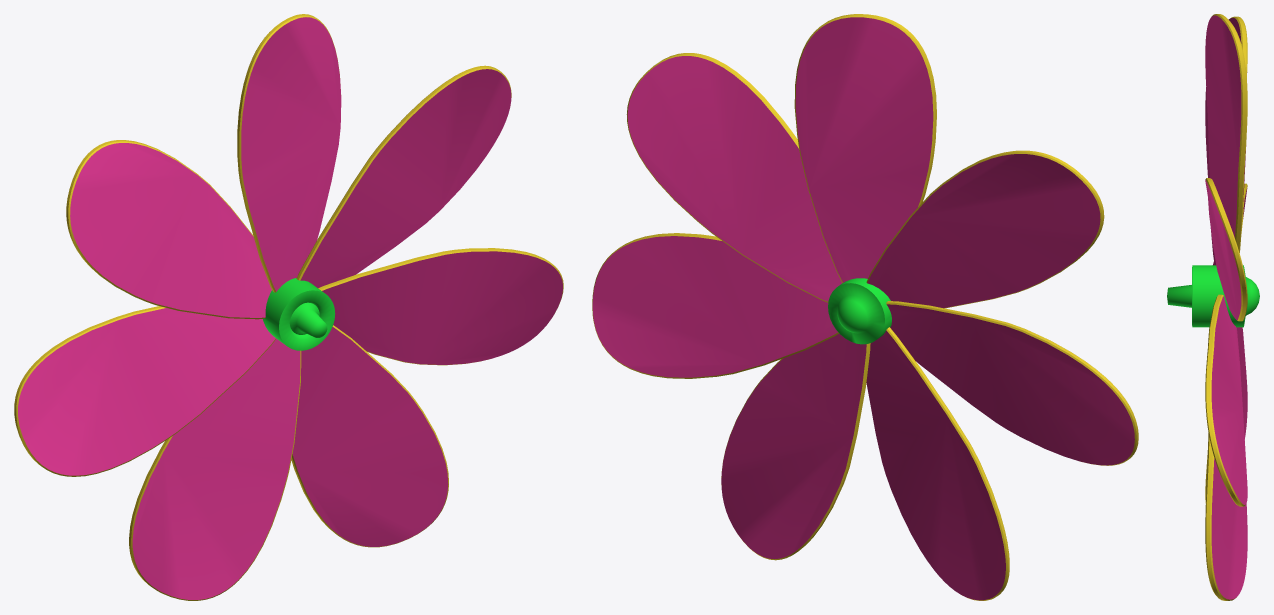
The model's file is fan5.fbx.
The picture shows the model from 3 angles, left to right: view 1: azimuth 30°, elevation 25°; view 2: azimuth 150°, elevation 25°; view 3: azimuth 270°, elevation 25°; orthographic projection. The views are drawn at different scales.
Parts seen in each view (by area): view 1: Frames.002; view 2: Frames.002; view 3: Frames.002.
Part boxes in pixels (x1=…): Frames.002: x1=14, y1=14, x2=563, y2=600; Frames.002: x1=592, y1=14, x2=1138, y2=600; Frames.002: x1=1167, y1=14, x2=1259, y2=600.
Size of the model in its own units: 215 by 210 by 33.4.
